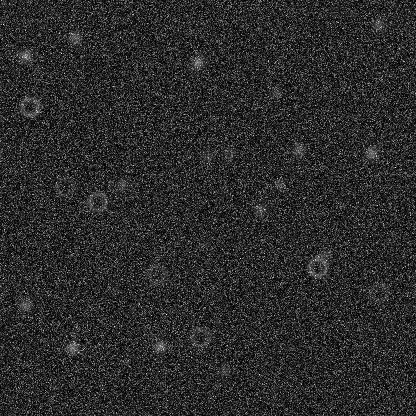Ring: (305, 255, 329, 279), (85, 189, 109, 213), (366, 280, 390, 304), (144, 261, 168, 285), (17, 94, 41, 118), (52, 174, 76, 198), (188, 325, 212, 349)
Spot: (215, 362, 231, 378), (152, 337, 168, 353), (113, 175, 129, 191), (189, 54, 205, 70), (363, 145, 379, 161), (199, 148, 215, 164), (290, 141, 306, 157), (64, 339, 80, 355), (270, 176, 286, 192), (267, 84, 283, 100), (17, 296, 33, 312), (252, 201, 268, 217), (317, 247, 333, 263), (370, 16, 386, 32), (67, 29, 83, 45), (222, 145, 238, 161), (17, 47, 33, 63)
